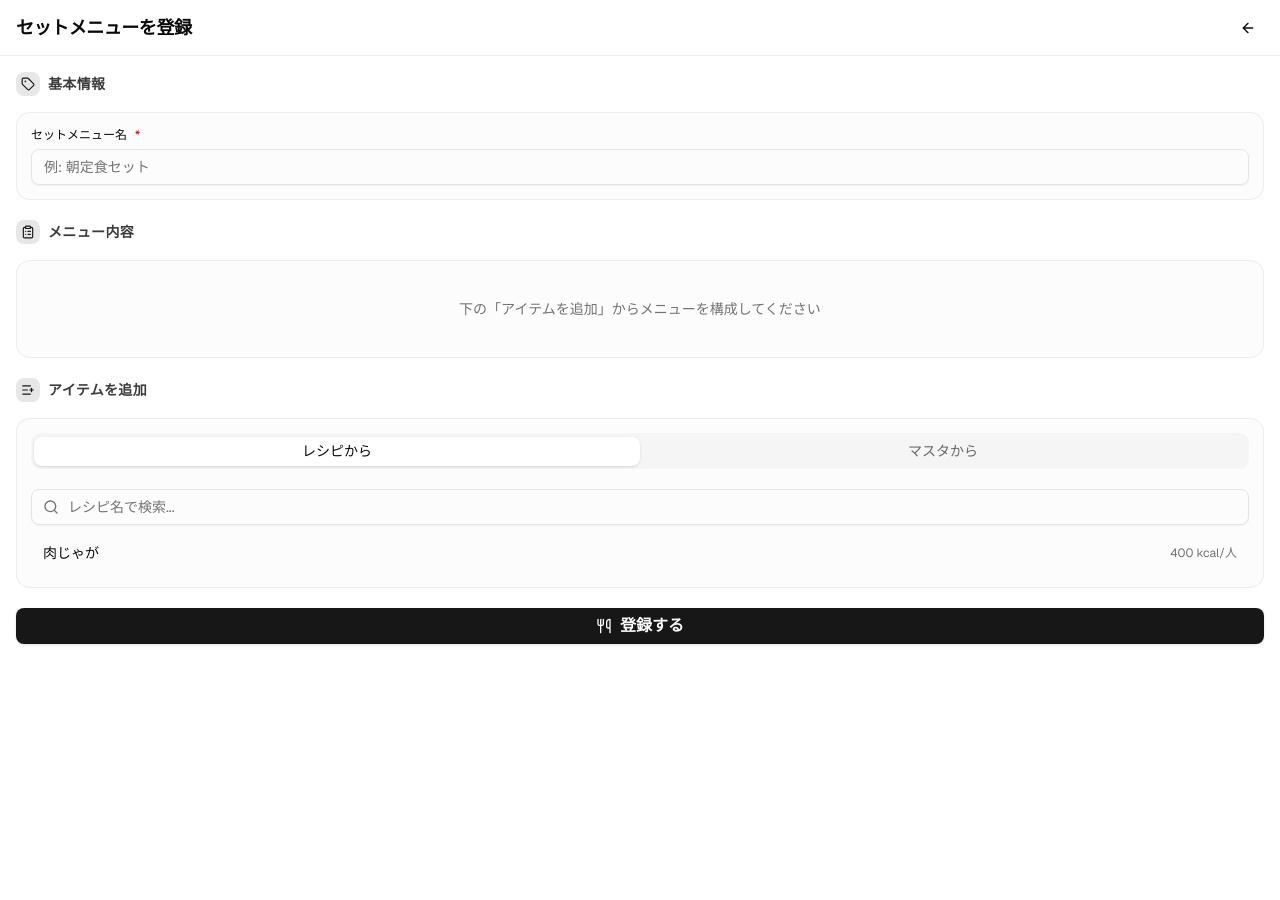
it: SetMenuFormView (S-06a セットメニュー登録/編集) › 新規 › S-06a: 分量の±は 0.5 刻みで、変えるとカロリー・食費の合計がすぐ変わる
Click the tab "マスタから" at (943, 451), box [640,436,1246,466]
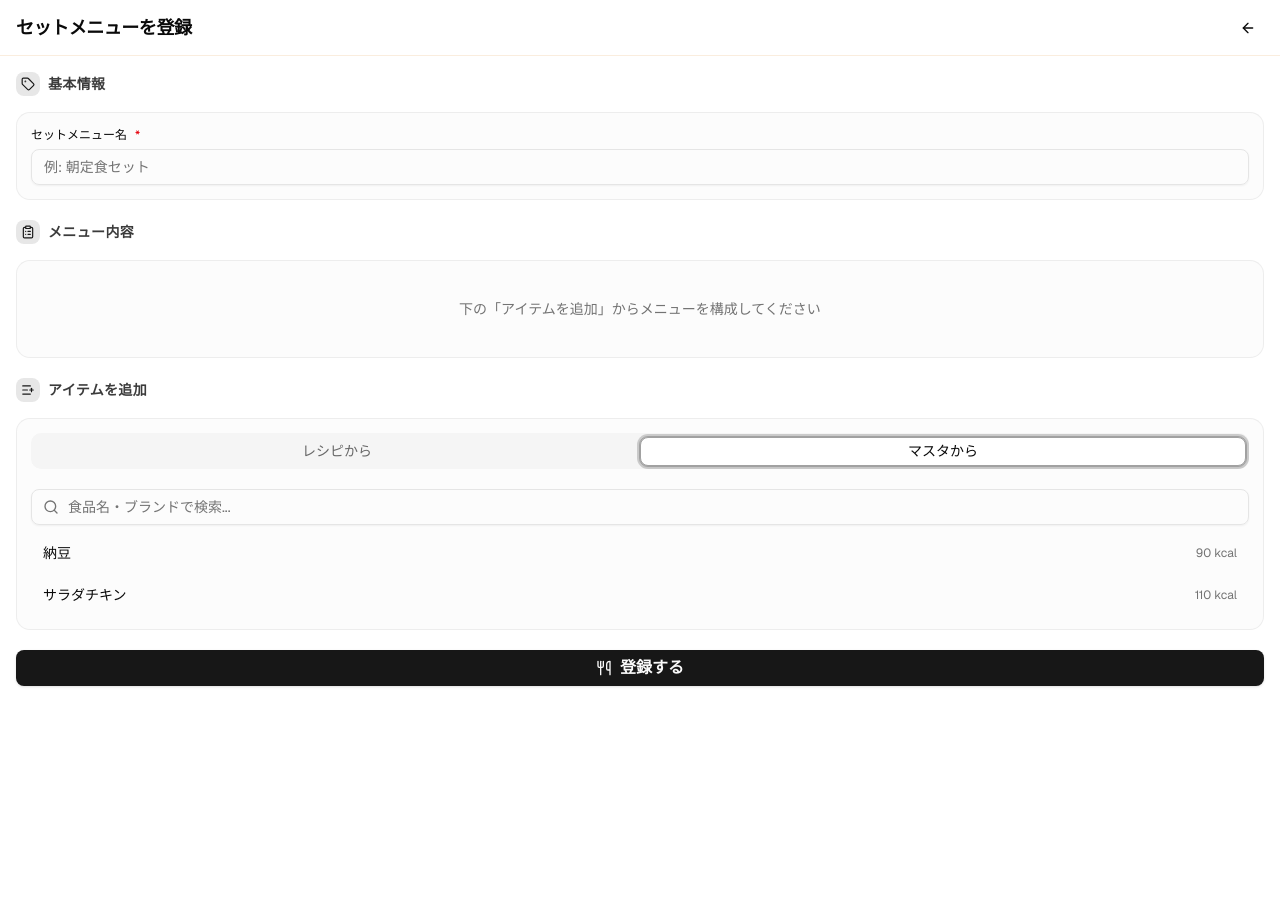
Click the button "納豆 90 kcal" at (1217, 553), box [31,533,1249,573]
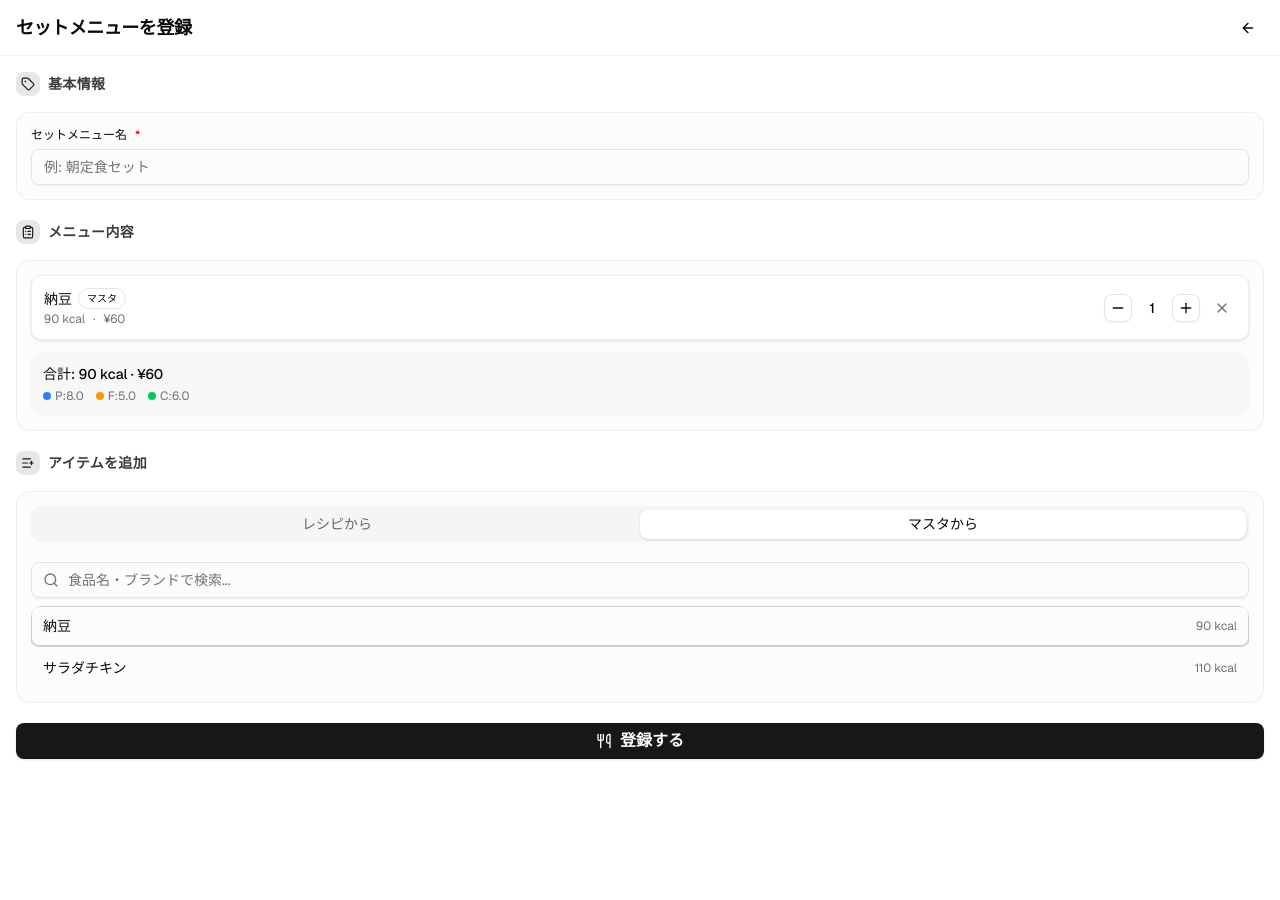
Click the button named "「納豆」を増やす" at (1186, 308), box [1172,294,1200,322]
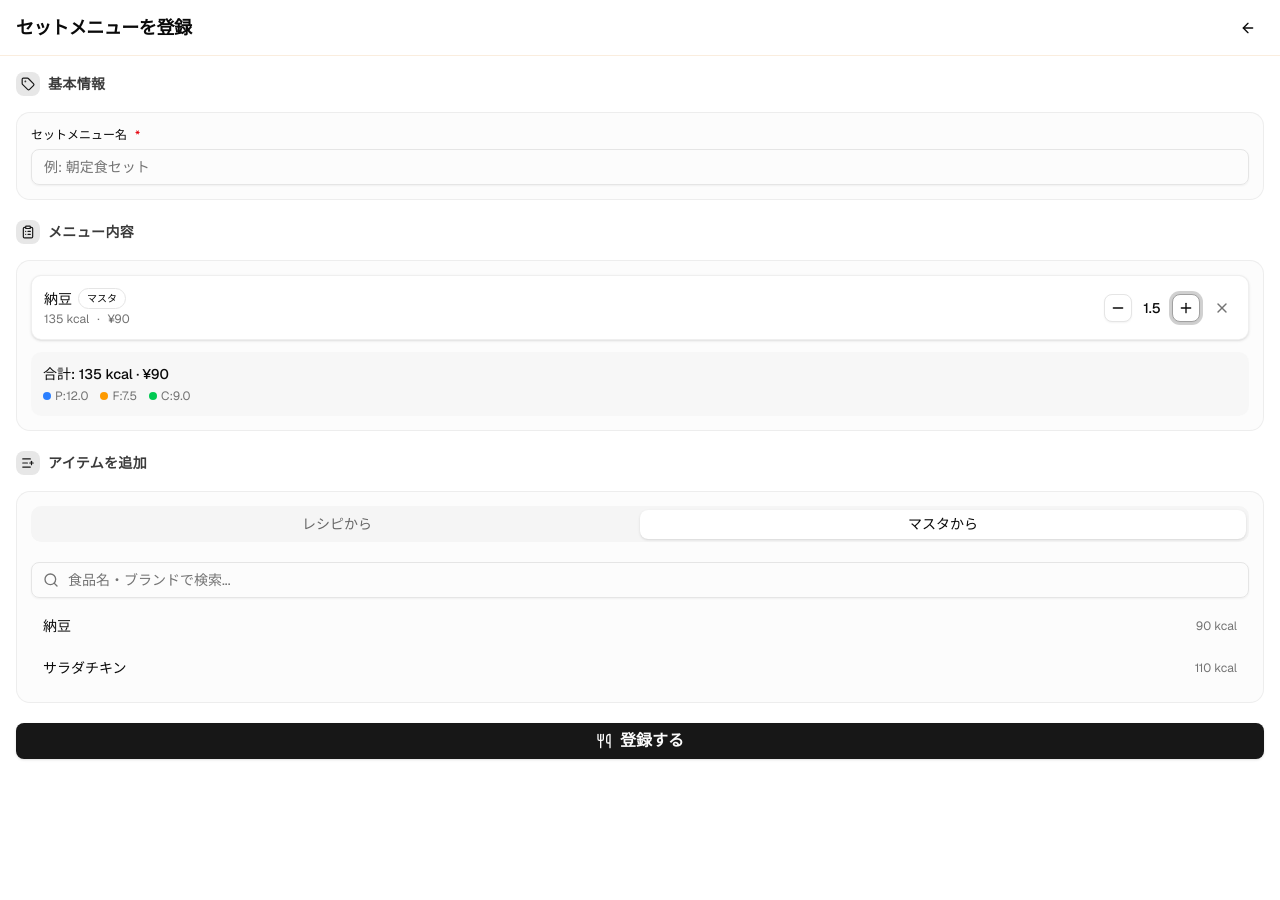
Expected: the text "合計: 135 kcal · ¥90" is shown, [43,365,169,383]
Click the button named "「納豆」を増やす" at (1186, 308), box [1172,294,1200,322]
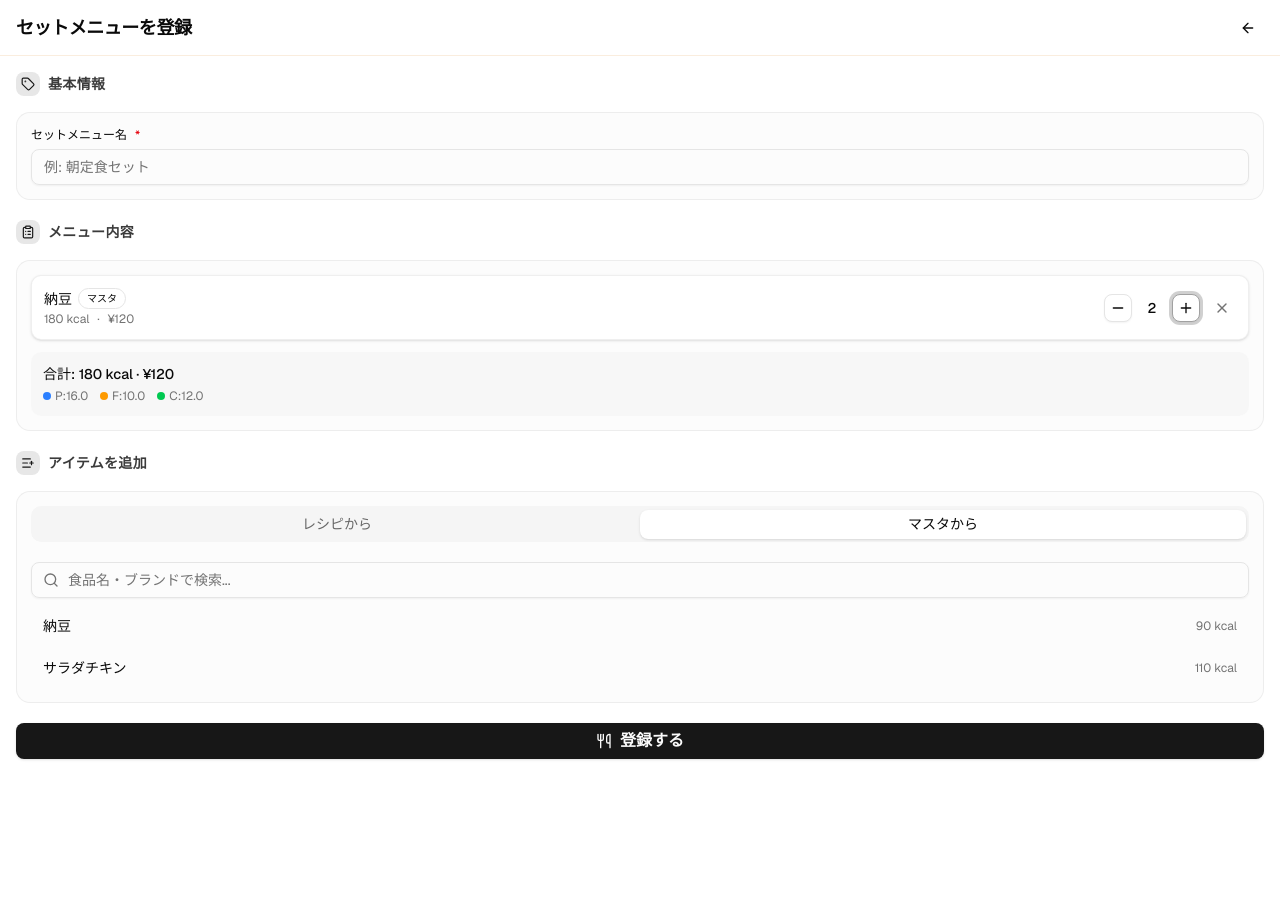
Expected: the text "合計: 180 kcal · ¥120" is shown, [43,365,174,383]
Click the button named "「納豆」を減らす" at (1118, 308), box [1104,294,1132,322]
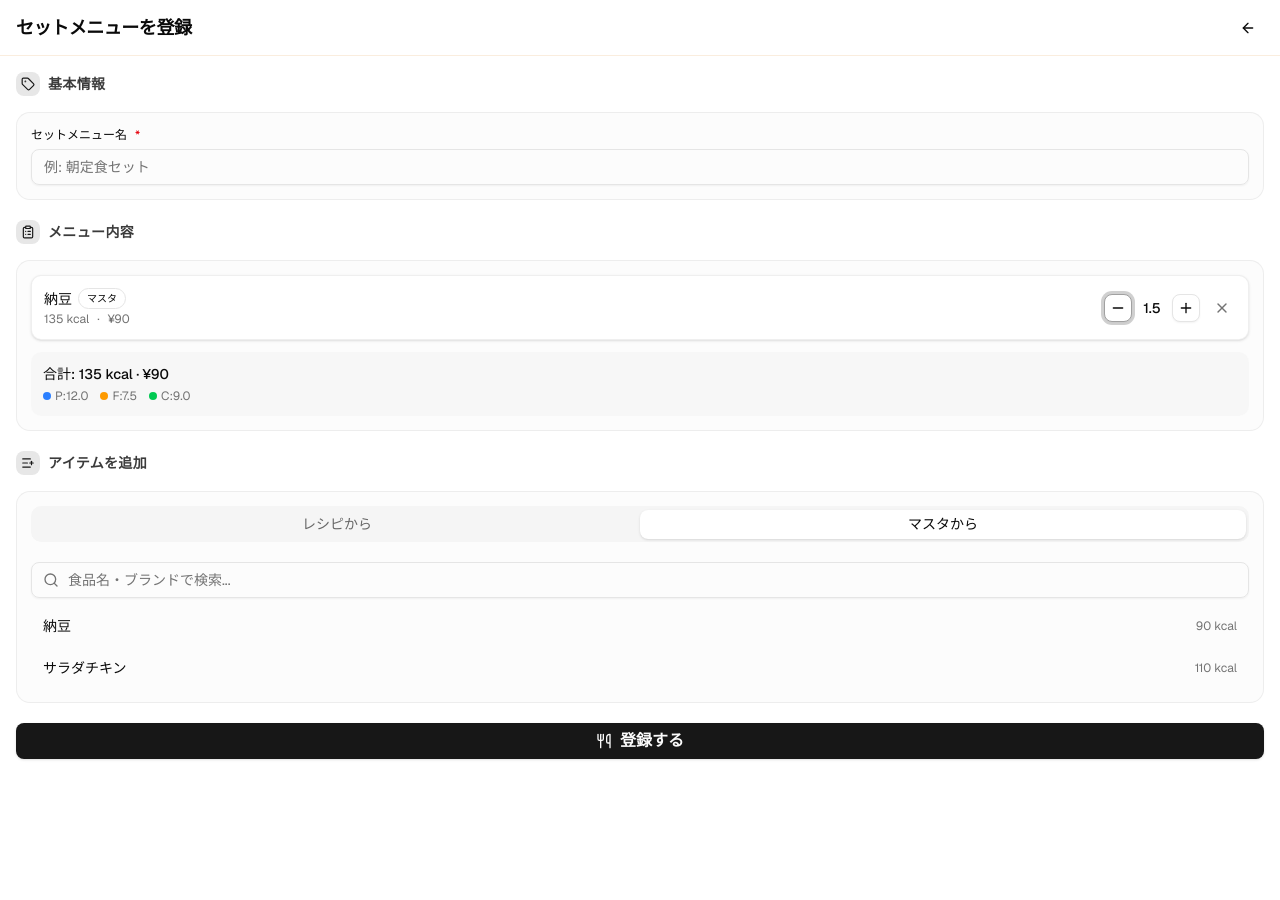
Expected: the text "合計: 135 kcal · ¥90" is shown, [43,365,169,383]
